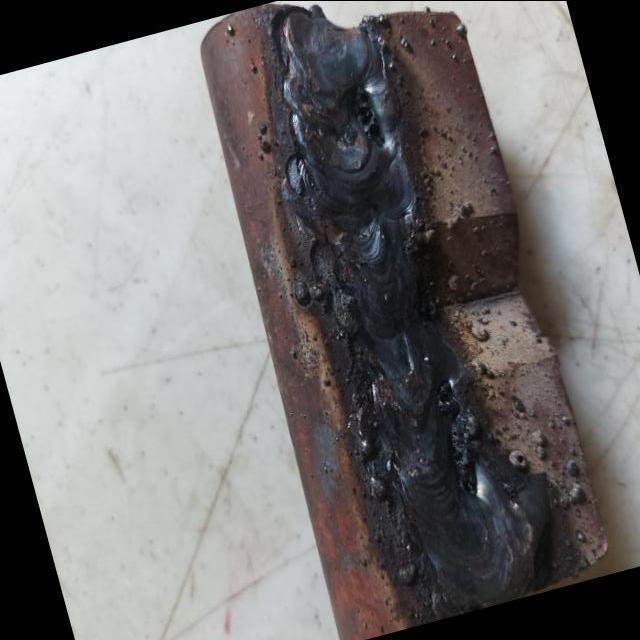defect: (352, 81, 388, 153), (448, 417, 478, 498), (434, 379, 457, 421)
